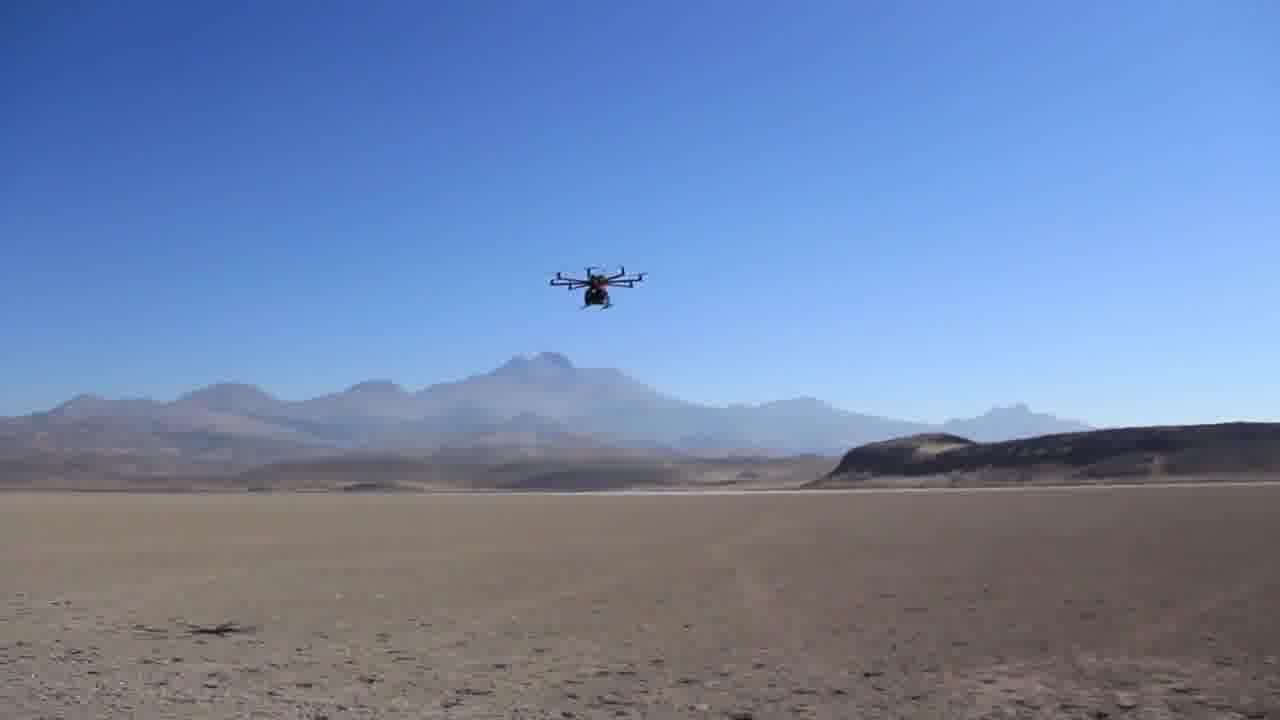drone: (541, 257, 650, 319)
